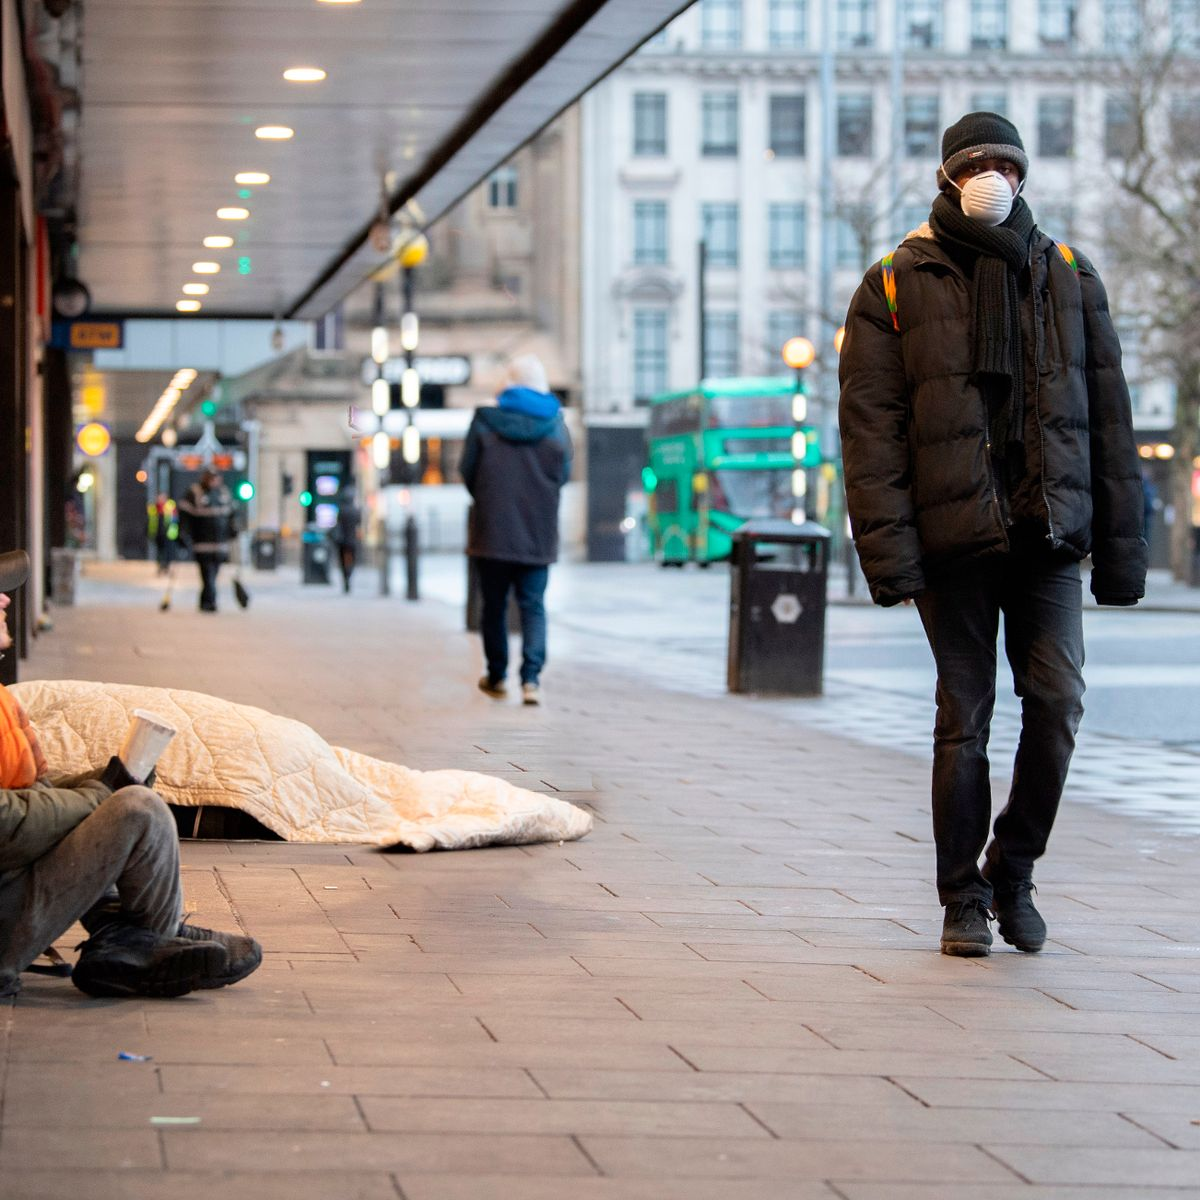person: (808, 101, 1161, 965), (450, 346, 582, 721)
